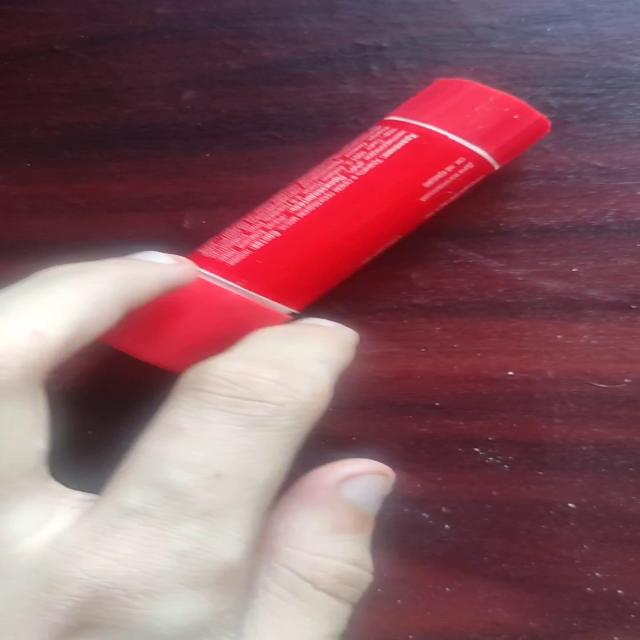glue: (67, 64, 599, 377)
